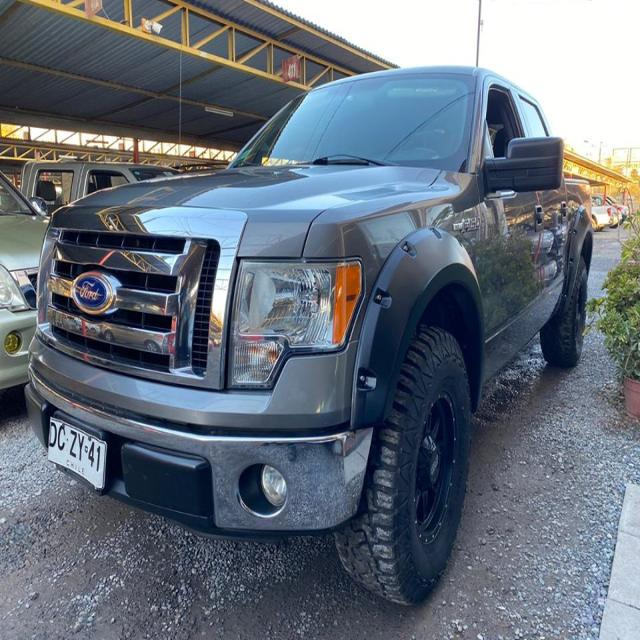patente: (46, 414, 107, 492)
